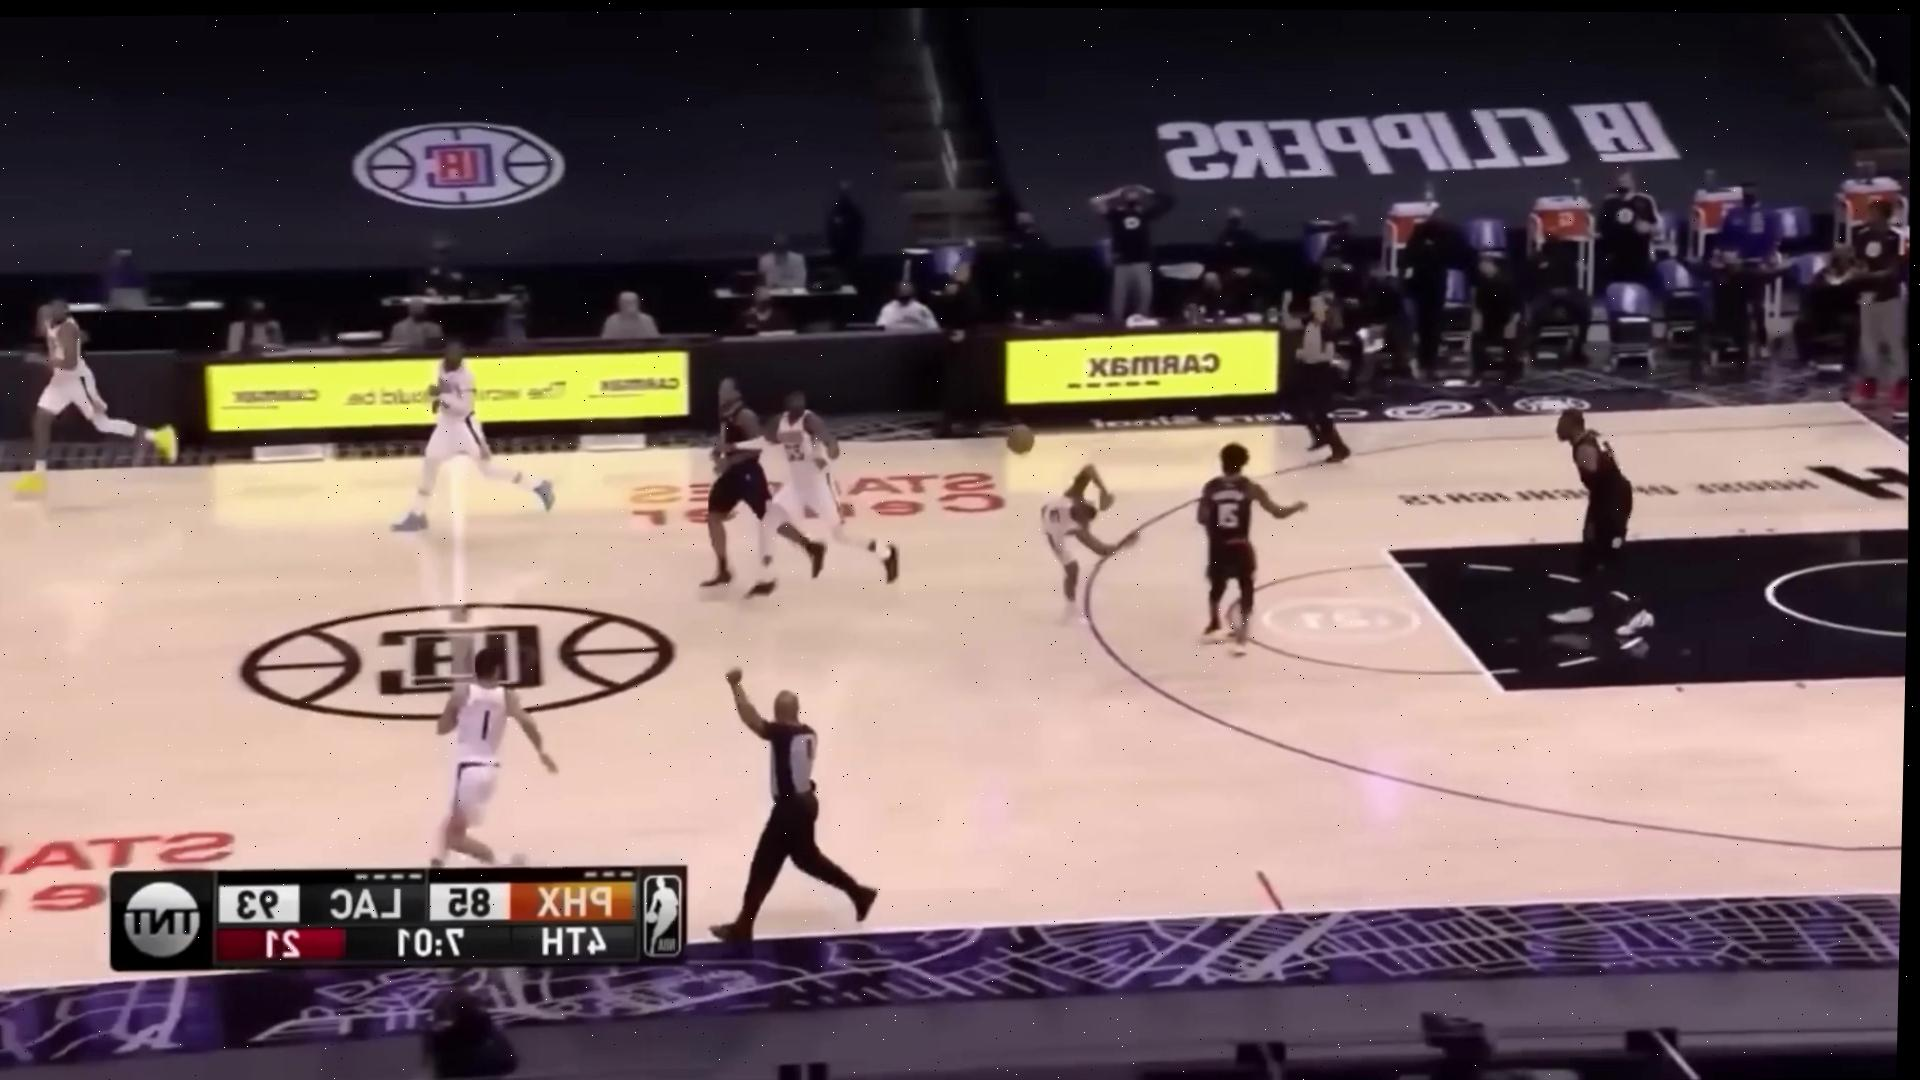no_foul: (990, 389, 1302, 669)
